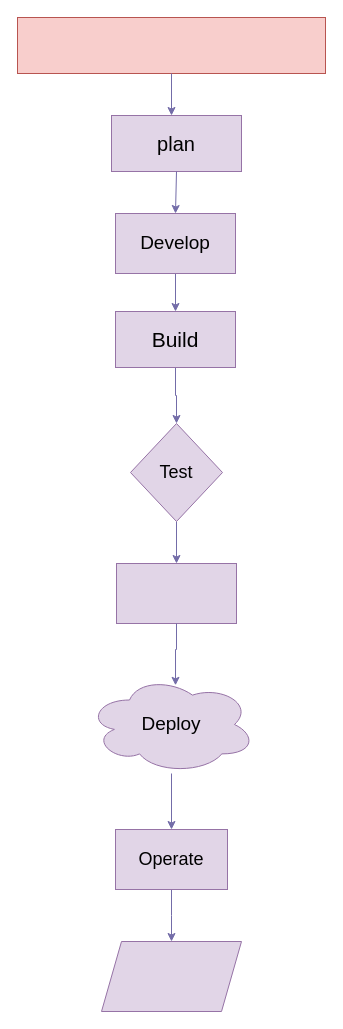
Image size: 343x1029. Some labels were removed from this diagram. The shapes that lost their labels are listed below. From the top down, each one's centre as x and y in pixels, then its label:
At [171,45]: "Devops Lifecycle".
At [176,593]: "Release".
At [171,976]: "Monitor".
